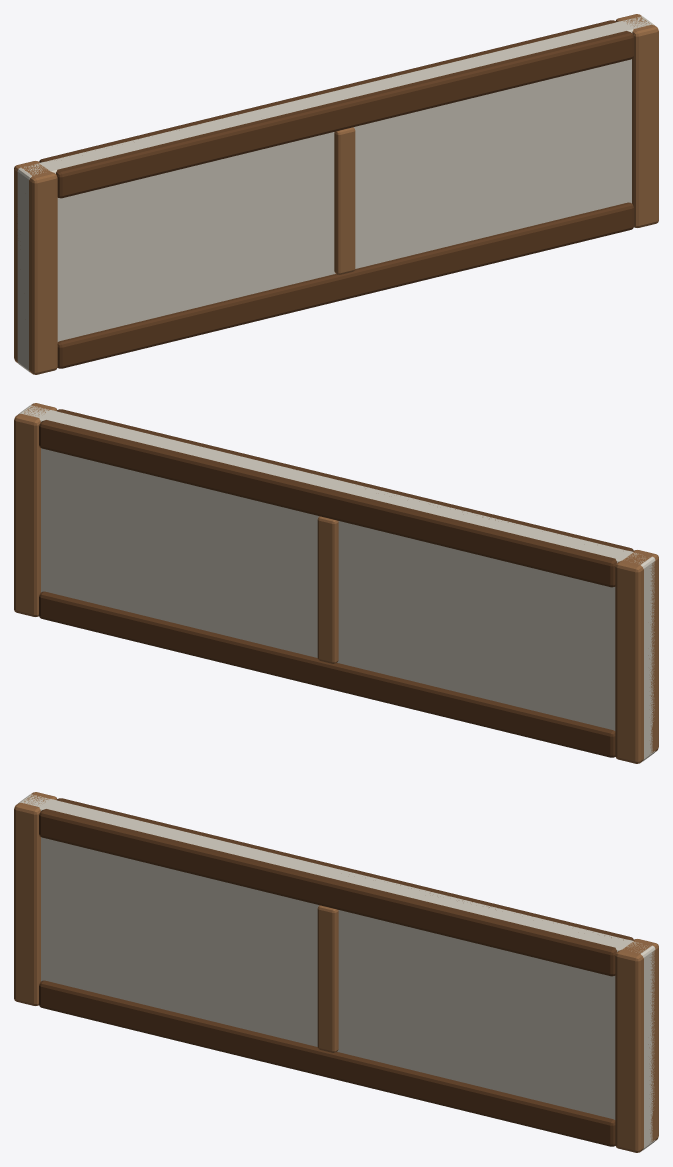
The model's file is wall_low_4x1p2.glb.
3 renders of one model, top to bottom at view 1: azimuth 30°, elevation 25°; view 2: azimuth 150°, elevation 25°; view 3: azimuth 330°, elevation 25°, orthographic.
Visible parts, largest first — view 1: wall_low_plaster, wall_low_top_rail, wall_low_bottom_rail, wall_low_left_post, wall_low_right_post, wall_low_center_post; view 2: wall_low_plaster, wall_low_top_rail, wall_low_bottom_rail, wall_low_left_post, wall_low_right_post, wall_low_center_post; view 3: wall_low_plaster, wall_low_top_rail, wall_low_bottom_rail, wall_low_right_post, wall_low_left_post, wall_low_center_post.
Boxes of the visible parts, x1=… form: wall_low_plaster: x1=17, y1=16, x2=654, y2=372; wall_low_top_rail: x1=39, y1=20, x2=633, y2=198; wall_low_bottom_rail: x1=57, y1=202, x2=633, y2=368; wall_low_left_post: x1=14, y1=161, x2=57, y2=374; wall_low_right_post: x1=616, y1=14, x2=658, y2=227; wall_low_center_post: x1=334, y1=127, x2=355, y2=274; wall_low_plaster: x1=18, y1=405, x2=655, y2=761; wall_low_top_rail: x1=39, y1=409, x2=633, y2=587; wall_low_bottom_rail: x1=39, y1=591, x2=615, y2=757; wall_low_left_post: x1=615, y1=550, x2=658, y2=763; wall_low_right_post: x1=14, y1=403, x2=56, y2=616; wall_low_center_post: x1=317, y1=516, x2=338, y2=663; wall_low_plaster: x1=18, y1=794, x2=655, y2=1150; wall_low_top_rail: x1=39, y1=798, x2=633, y2=976; wall_low_bottom_rail: x1=39, y1=980, x2=615, y2=1146; wall_low_right_post: x1=615, y1=939, x2=658, y2=1152; wall_low_left_post: x1=14, y1=792, x2=56, y2=1005; wall_low_center_post: x1=317, y1=905, x2=338, y2=1052.
Size of the model in its own units: 4 by 1.2 by 0.24.
